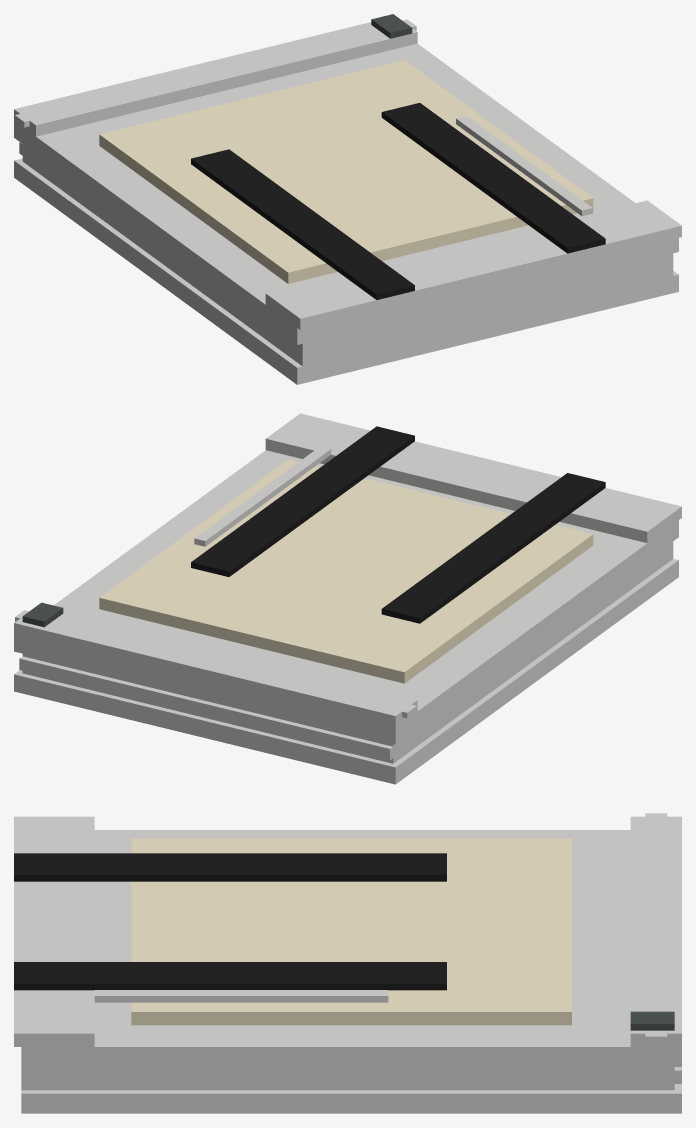
File: fencing_pants.glb
3 renders of one model, top to bottom at view 1: azimuth 30°, elevation 25°; view 2: azimuth 150°, elevation 25°; view 3: azimuth 270°, elevation 25°, orthographic. The views are drawn at different scales.
Parts seen in each view (by area): view 1: fencing_pants:compound; view 2: fencing_pants:compound; view 3: fencing_pants:compound.
Boxes of the visible parts, x1=… form: fencing_pants:compound: x1=14, y1=14, x2=681, y2=384; fencing_pants:compound: x1=14, y1=413, x2=681, y2=784; fencing_pants:compound: x1=14, y1=813, x2=681, y2=1113.
Bounding box in the file's own units: 0.288 × 0.052 × 0.364.
